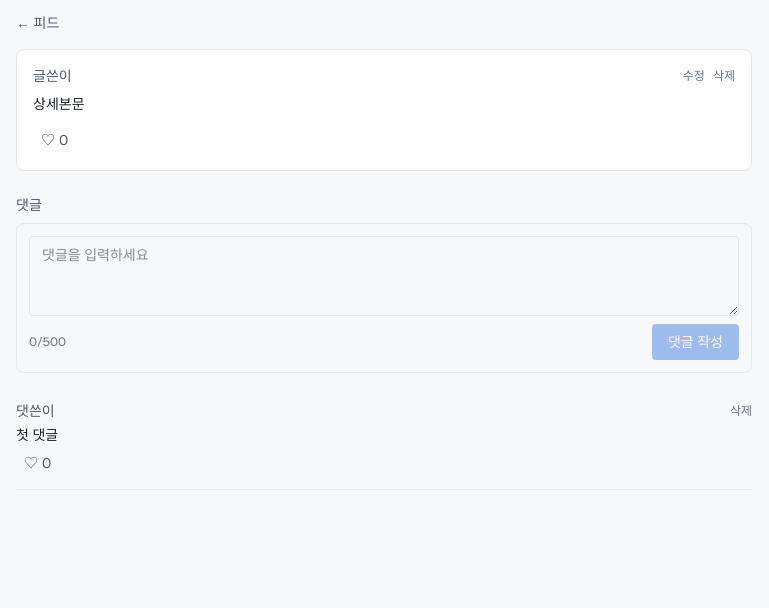
Scenario: FeedDetailPage › 댓글을 작성하면 목록에 추가된다
Expected: the text "첫 댓글" is shown, [16, 426, 58, 444]
Type "새 댓글" into the text box with placeholder "댓글을 입력하세요". click: (384, 276)
box: [29, 236, 739, 316]
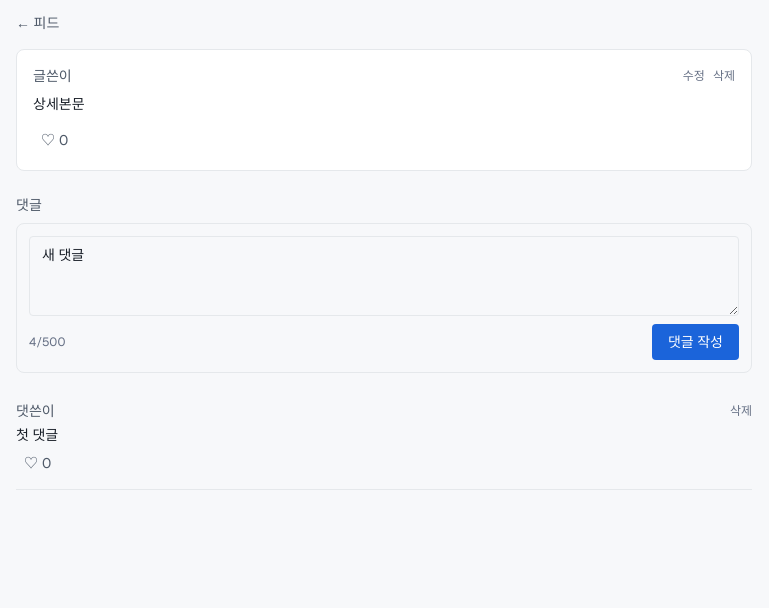
Click the button "댓글 작성". click: (696, 342)
box: [652, 324, 739, 360]
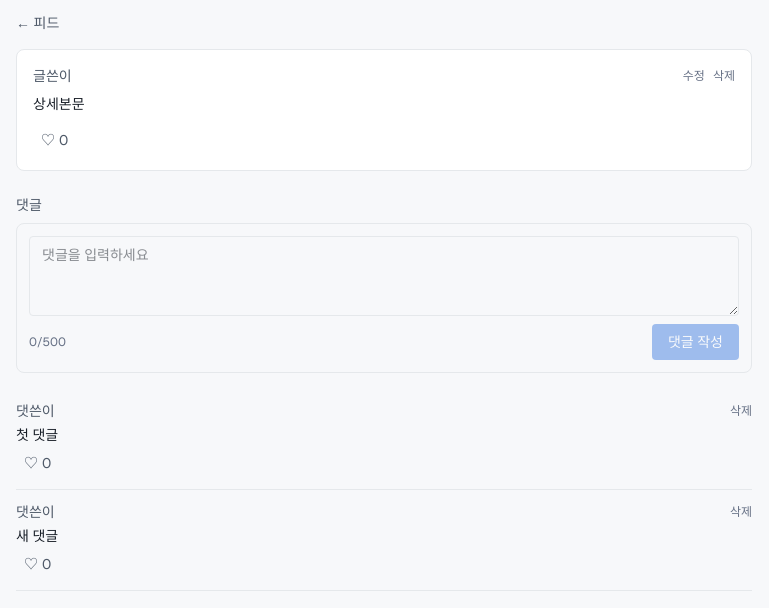
Expected: the text "새 댓글" is shown, [16, 527, 58, 545]
